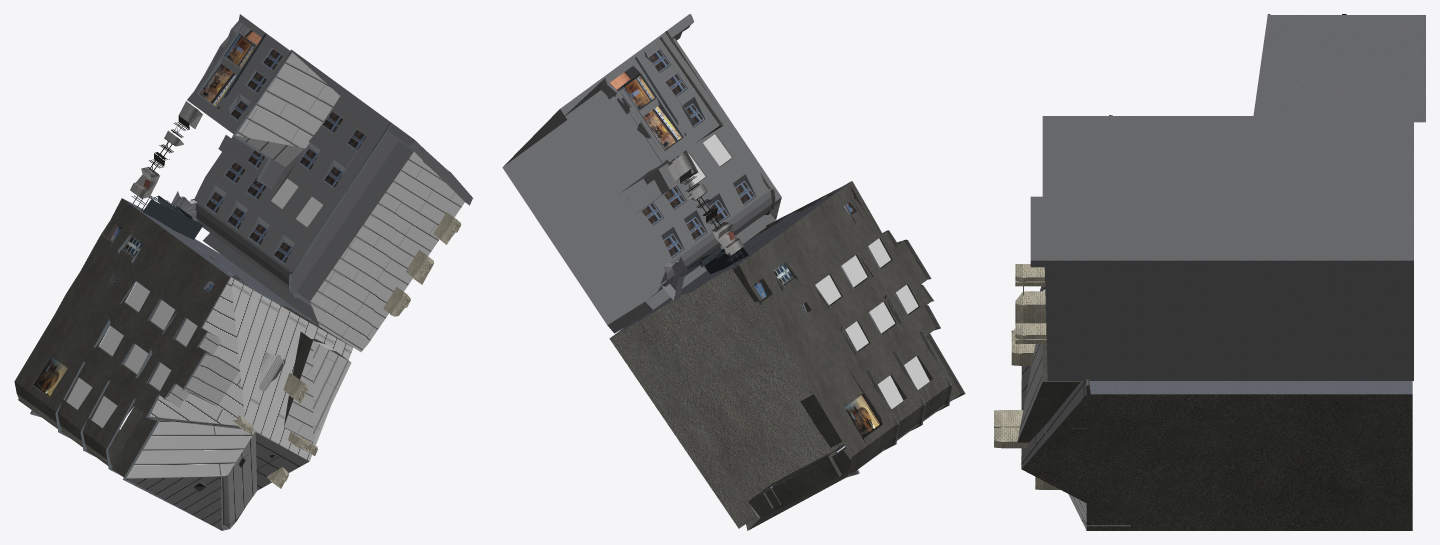
The model's file is Sauna2-origo.obj.
3 renders of one model, left to right at view 1: azimuth 30°, elevation 25°; view 2: azimuth 150°, elevation 25°; view 3: azimuth 270°, elevation 25°, orthographic. The views are drawn at different scales.
Parts seen in each view (by area): view 1: Sauna_2; view 2: Sauna_2; view 3: Sauna_2.
Boxes of the visible parts, x1,y1,x2,y2 form: Sauna_2: [14, 14, 473, 530]; Sauna_2: [502, 14, 965, 530]; Sauna_2: [994, 14, 1425, 530].
Size of the model in its own units: 27.81 by 32 by 20.67.
